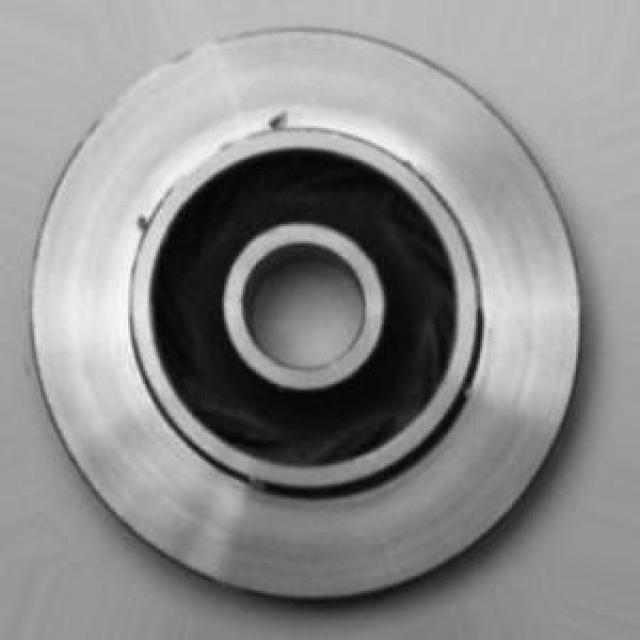Defect: (262, 110, 300, 136)
